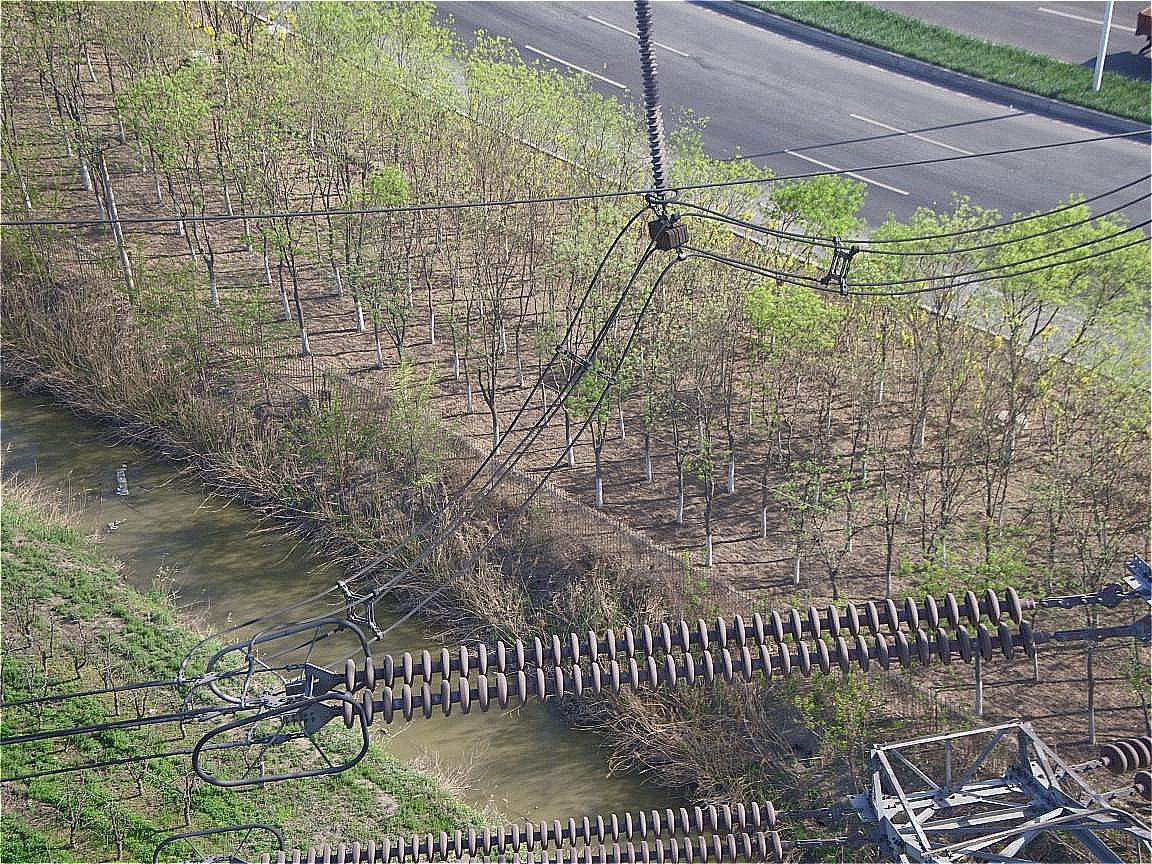insultor1: (325, 587, 1043, 734), (223, 778, 791, 864)
